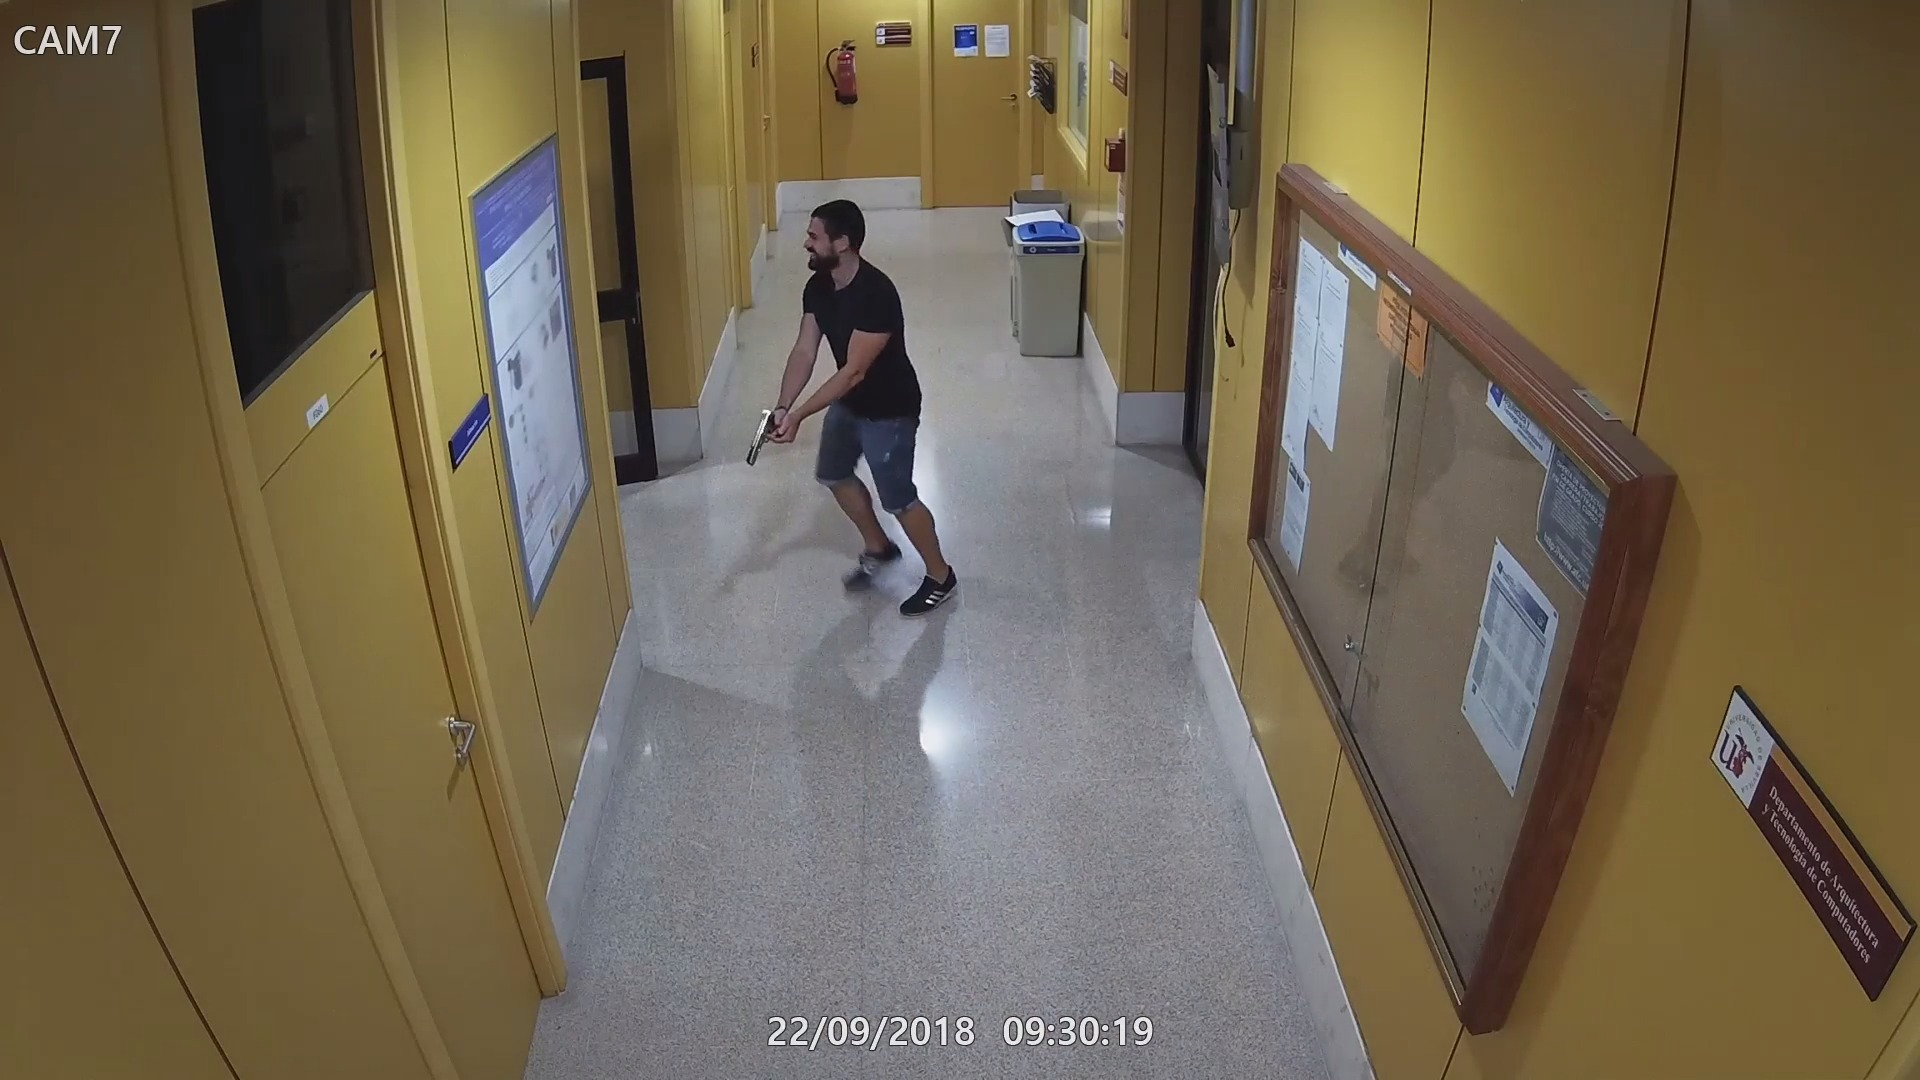Handgun: (742, 402, 785, 467)
